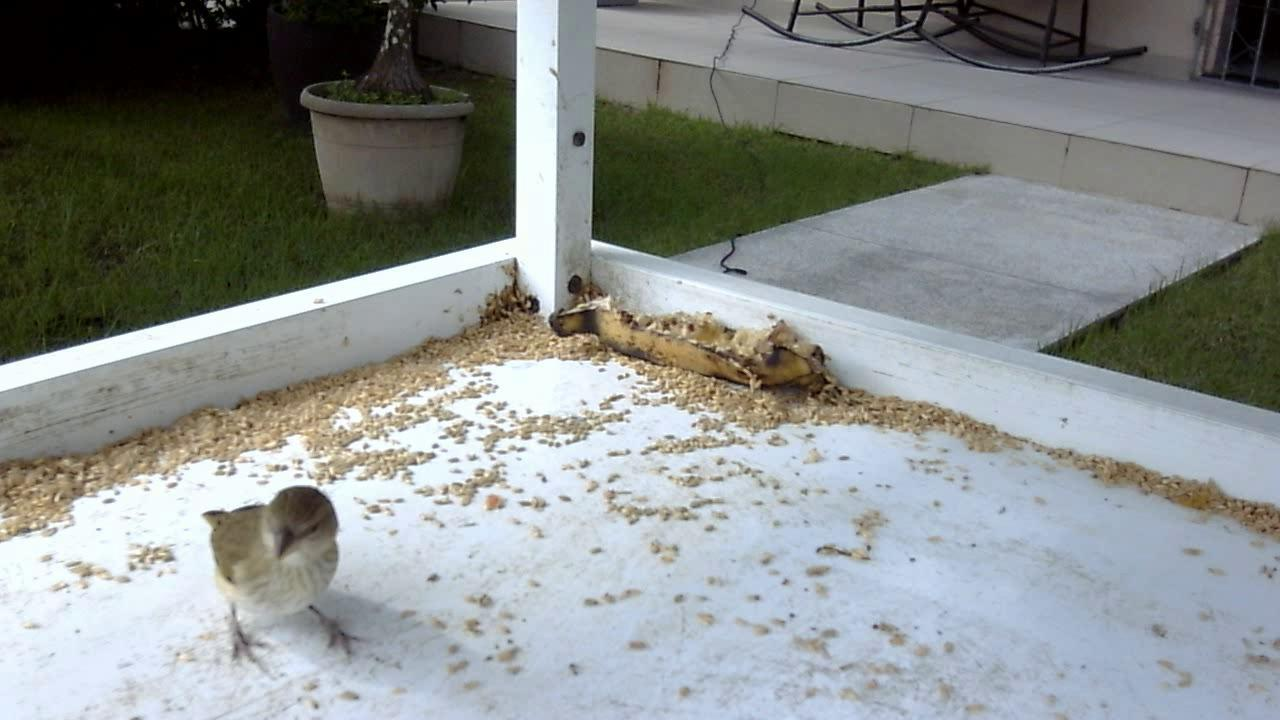canario_do_amazonas: (195, 483, 375, 672)
